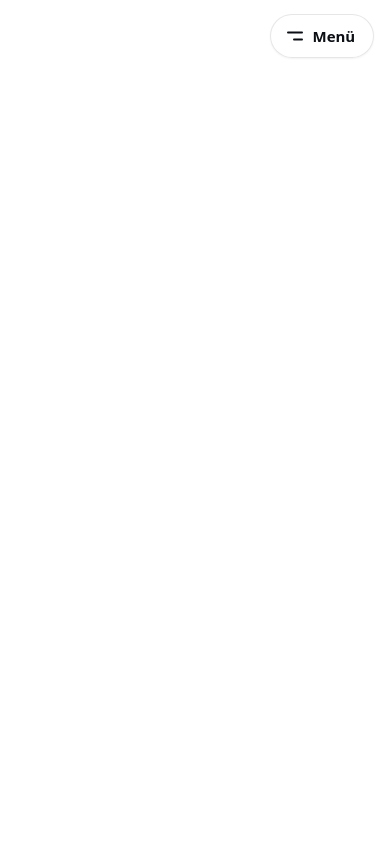
Mobilnavigation — Zustand und Bedienung › markiert den aktiven Bereich über navigation-data, auch für /praxen
Click the button with aria-label "Navigation öffnen" at point(322, 36), box [270,14,374,58]
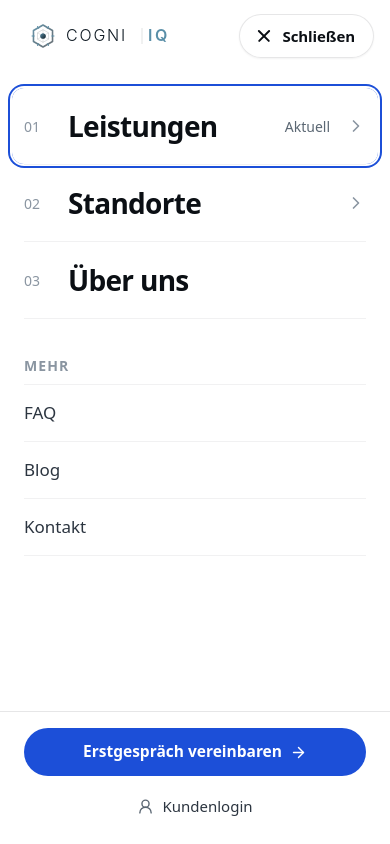
Expected: the button "01 Leistungen Aktuell" is shown, [12,88,378,164]
